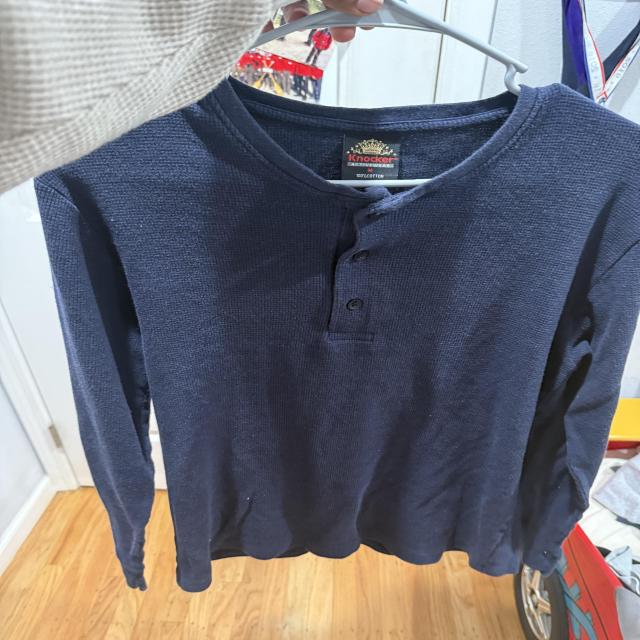back_tag: (340, 131, 400, 180)
